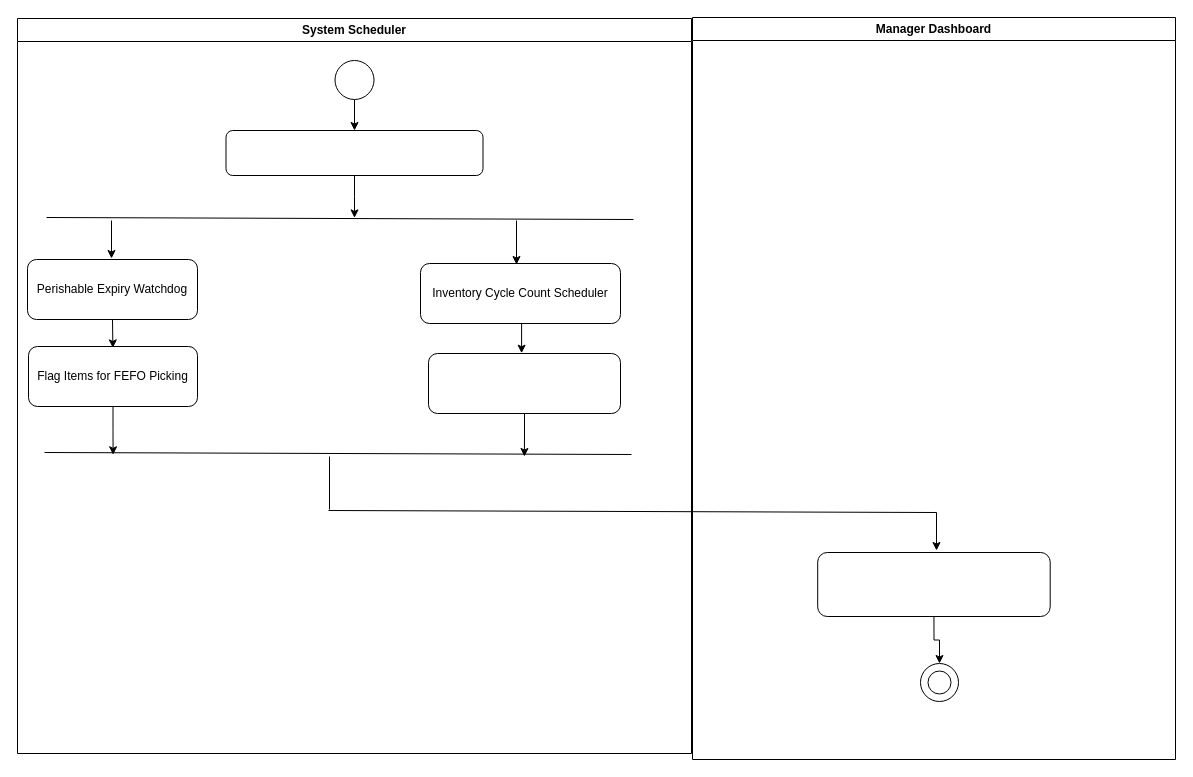
Some shapes in this 1193 by 777 pixel diagram are drawn without their labels. Each missing label, with the centre of its shape:
Flag Specific Aisles for Audit: pixel 524 383
Nightly Cron Job Triggered: pixel 354 153
Trigger Alert Notification: pixel 933 584
